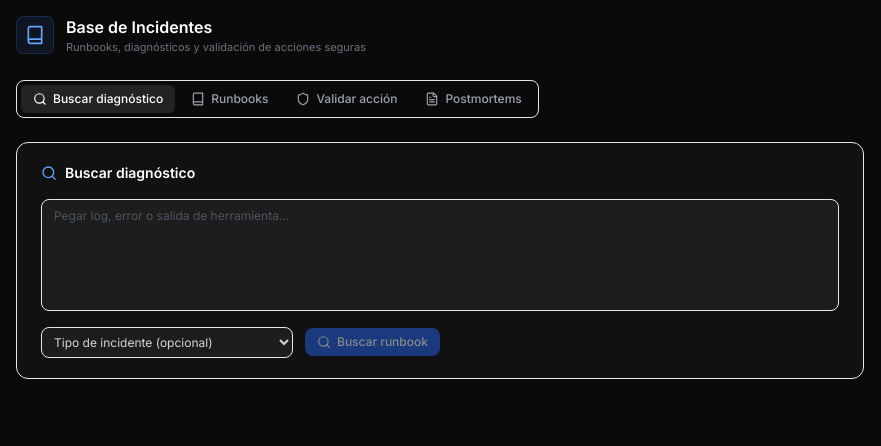
Test: Search section › backend error shows error message
Type "log" into the text box with test id "knowledge-search-textarea".
click(440, 254); type("log")  # box left=41, top=198, right=839, bottom=310
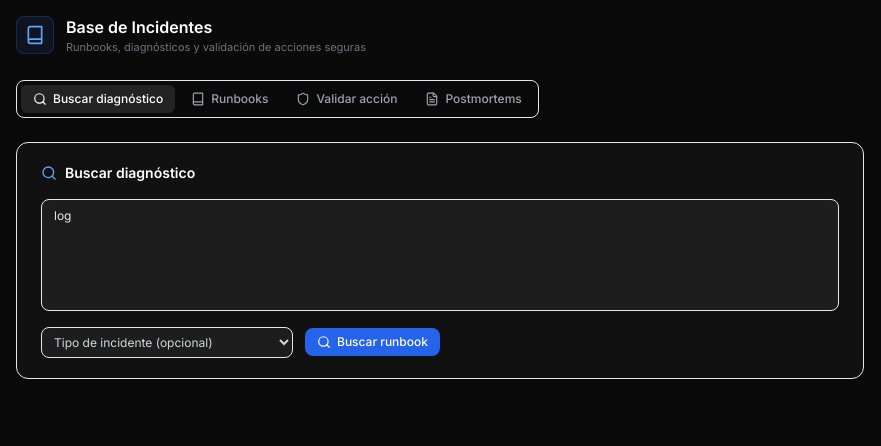
Click the button with test id "knowledge-search-btn".
click(372, 342)  # box left=305, top=328, right=440, bottom=356
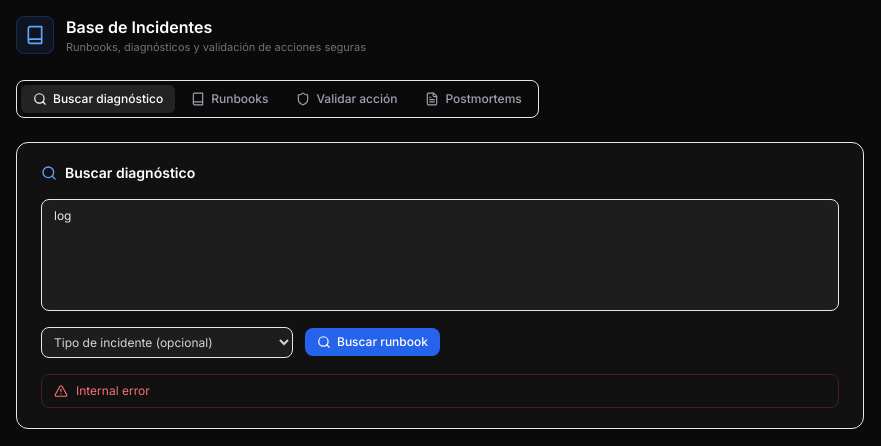
Expected: the text "Internal error" is shown, left=41, top=374, right=839, bottom=408
